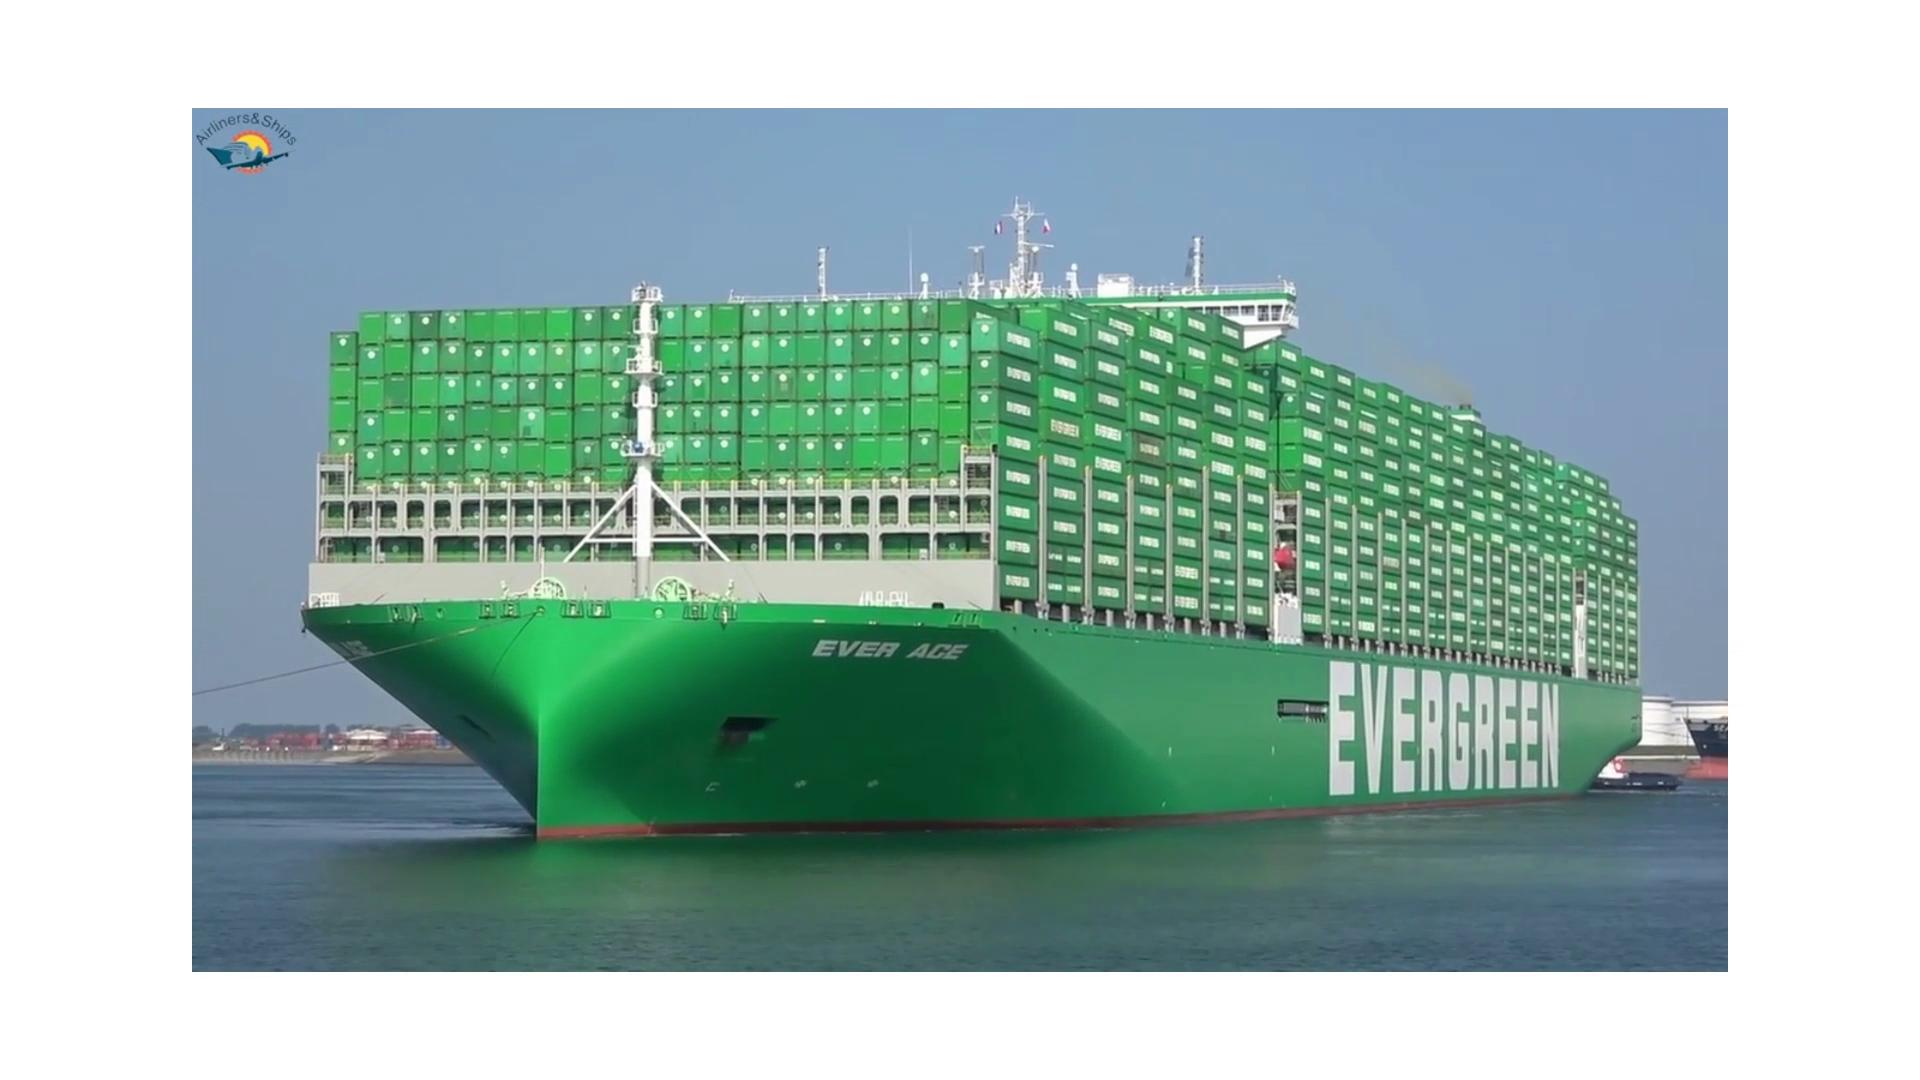OCR: (1300, 625, 1589, 818), (791, 618, 975, 671)
